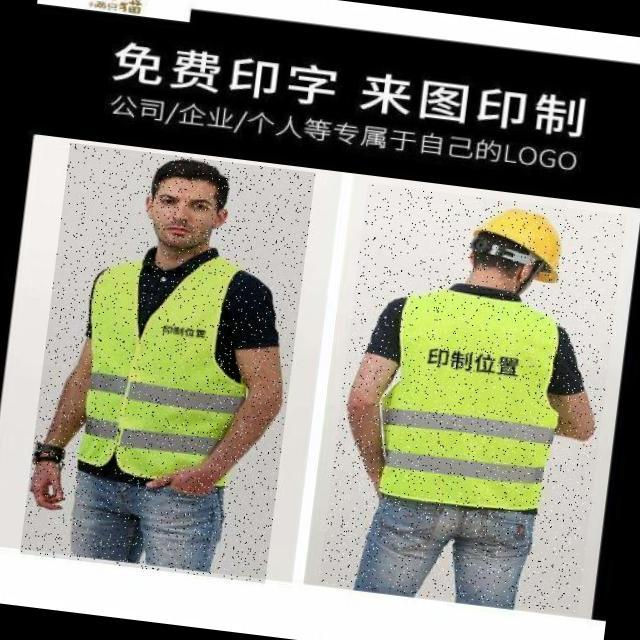Helmet: (464, 200, 566, 286)
Person: (330, 158, 610, 619), (28, 135, 294, 601)
Safety Vest: (65, 236, 265, 497), (366, 281, 570, 522)
bare-arms: (24, 440, 79, 517), (138, 474, 236, 500)
no-helmet: (145, 154, 231, 195)
